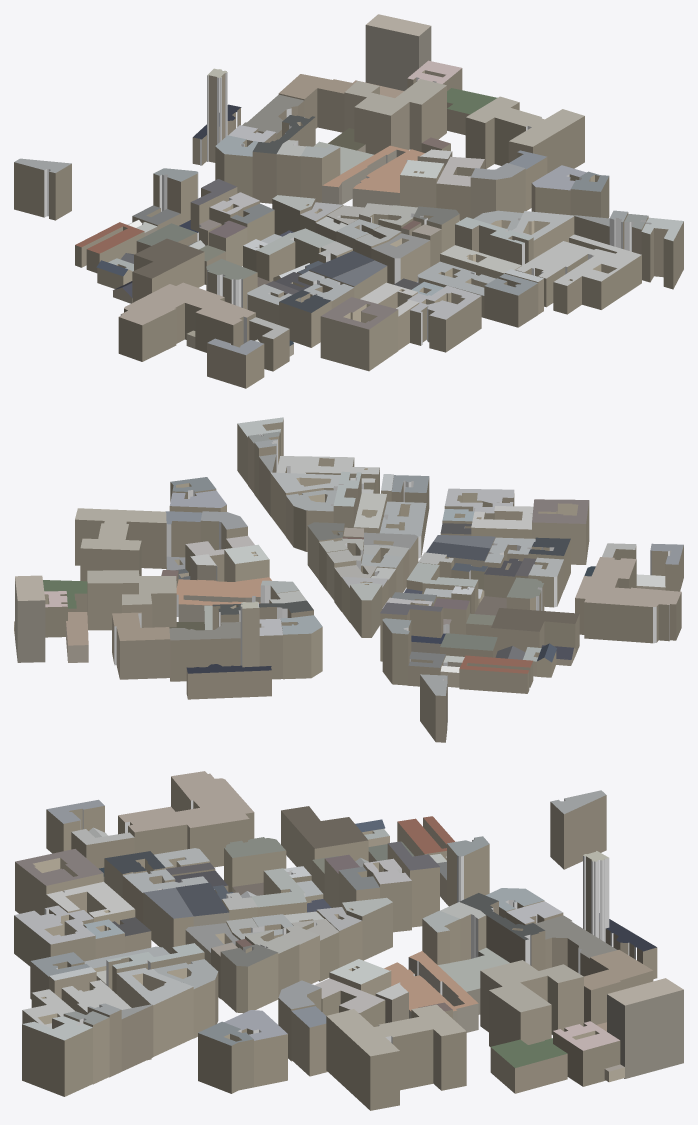
3 views of the same model, one above another, from view 1: azimuth 30°, elevation 25°; view 2: azimuth 150°, elevation 25°; view 3: azimuth 270°, elevation 25° (orthographic). The views are drawn at different scales.
Parts seen in each view (by area): view 1: tuile; view 2: tuile; view 3: tuile.
Boxes of the visible parts, bbox=[...] form: tuile: bbox=[14, 14, 683, 388]; tuile: bbox=[14, 417, 683, 742]; tuile: bbox=[14, 771, 683, 1110].
Size of the model in its own units: 302 by 50.27 by 278.
